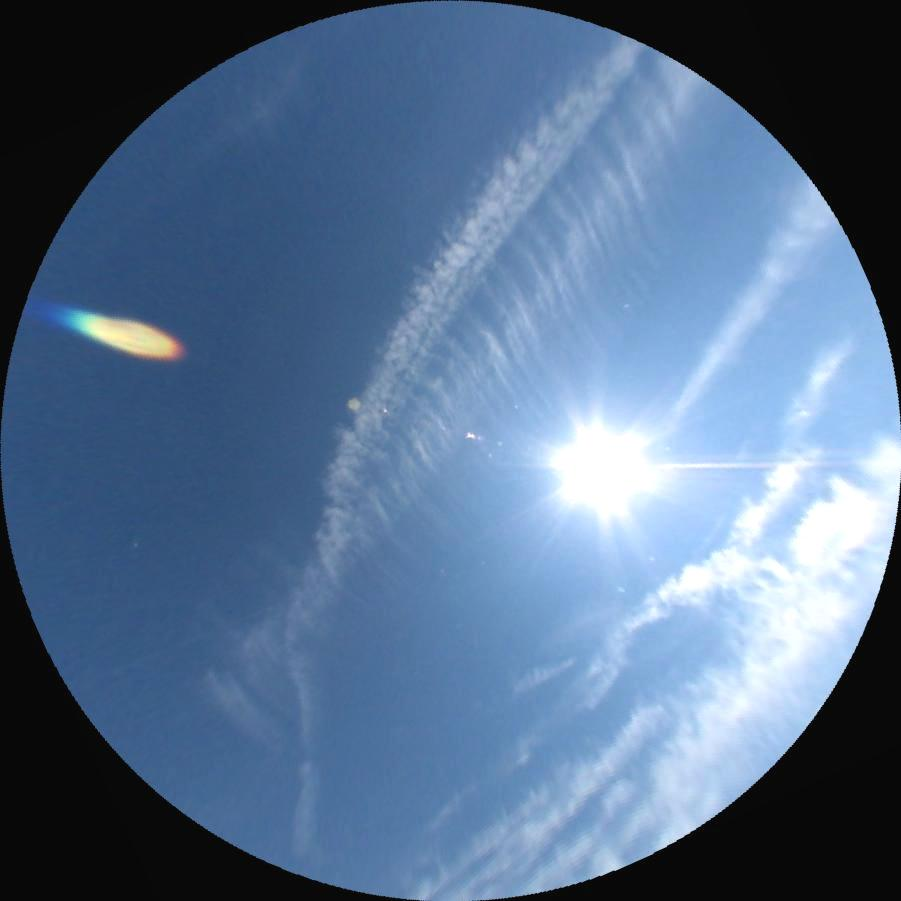contrail veryold: (190, 44, 772, 786), (174, 0, 646, 863), (652, 177, 848, 455)
parasite: (654, 458, 863, 470)
sun: (568, 437, 637, 501)
